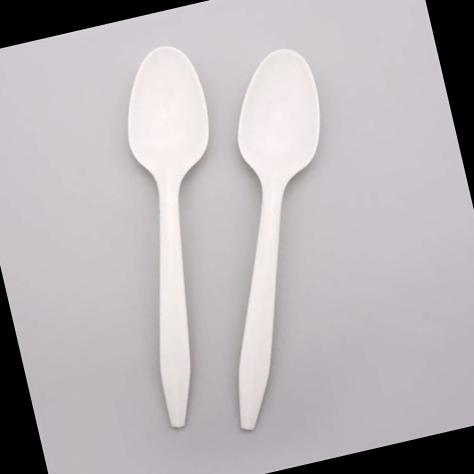Plastik: (238, 49, 319, 429), (128, 47, 208, 427)
